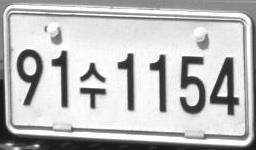1: (146, 54, 176, 112), (114, 53, 143, 111), (48, 49, 73, 107)
4: (210, 56, 240, 115)
5: (179, 55, 206, 114)
9: (16, 49, 44, 106)
수: (79, 62, 106, 109)
